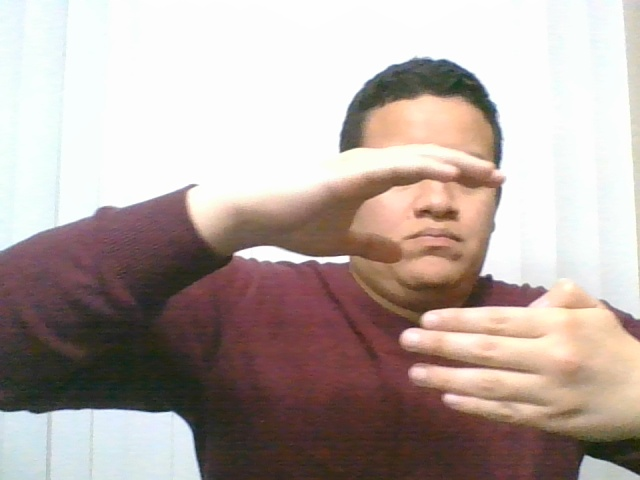To Study: (125, 126, 625, 448)
